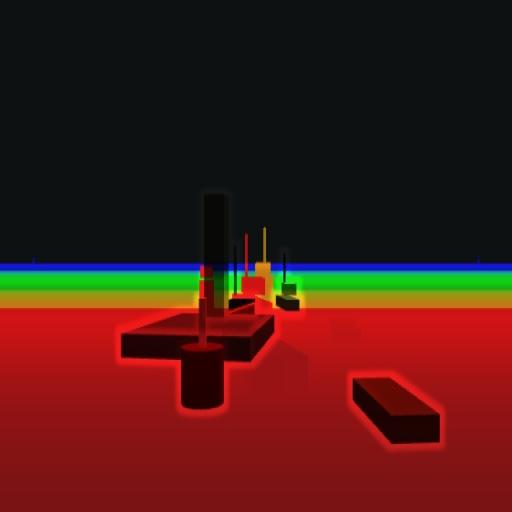fishing_boat: (277, 252, 300, 310)
